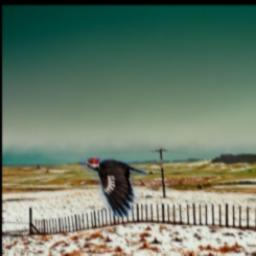Woodpecker: (82, 157, 147, 217)
